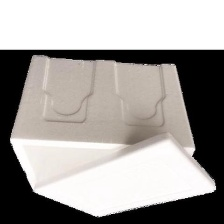foam_box: (5, 51, 218, 221)
